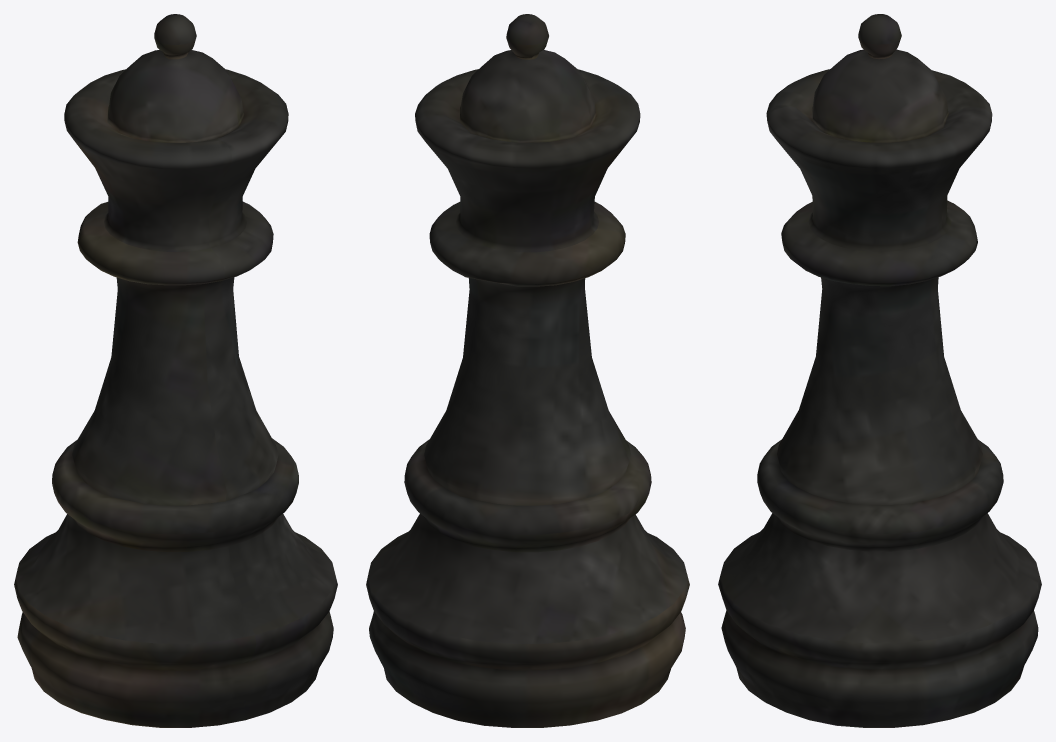
The model's file is queen_black.glb.
The picture shows the model from 3 angles, left to right: view 1: azimuth 30°, elevation 25°; view 2: azimuth 150°, elevation 25°; view 3: azimuth 270°, elevation 25°; orthographic projection.
Parts seen in each view (by area): view 1: piece_queen_black; view 2: piece_queen_black; view 3: piece_queen_black.
Part boxes in pixels (x1,y1,x2,y2): piece_queen_black: (14, 14, 337, 727); piece_queen_black: (366, 14, 689, 727); piece_queen_black: (718, 14, 1041, 727).
Size of the model in its own units: 0.0406 by 0.0907 by 0.0408.
Materials: 1 (1 with a texture image).
